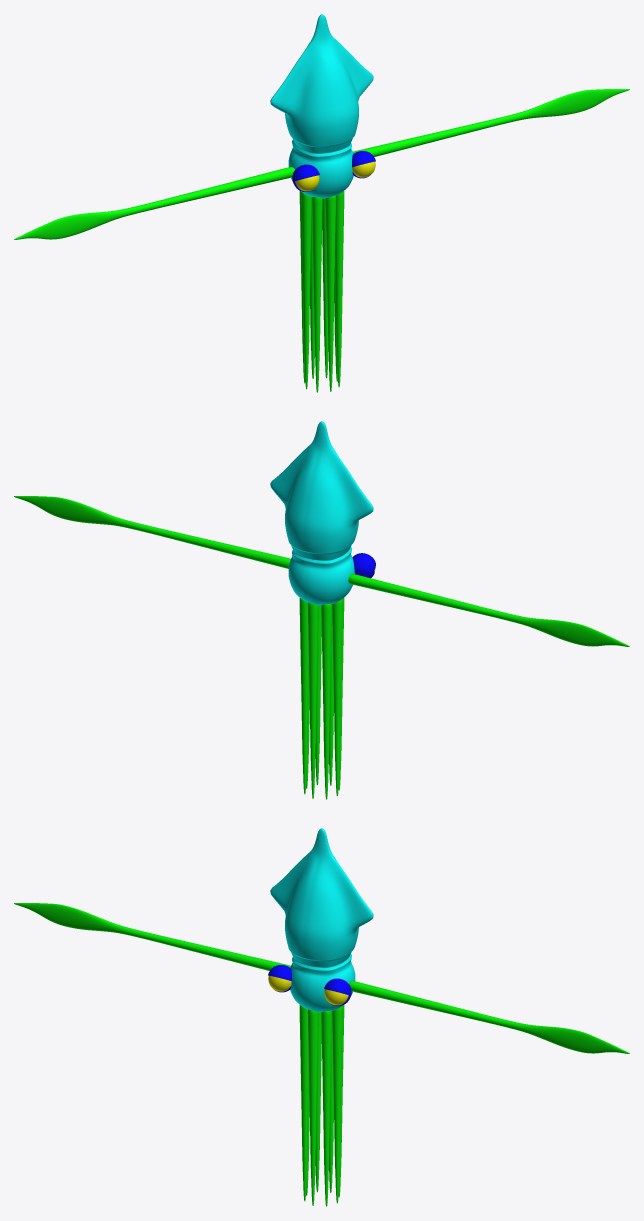
The model's file is Squid_Basic_Hi_SP.fbx.
3 renders of one model, top to bottom at view 1: azimuth 30°, elevation 25°; view 2: azimuth 150°, elevation 25°; view 3: azimuth 330°, elevation 25°, orthographic.
Visible parts, largest first — view 1: SquidMesh_Hi; view 2: SquidMesh_Hi; view 3: SquidMesh_Hi.
Boxes of the visible parts, <box> form: SquidMesh_Hi: <box>14,14,629,392</box>; SquidMesh_Hi: <box>14,421,629,799</box>; SquidMesh_Hi: <box>14,828,629,1206</box>.
Size of the model in its own units: 50.09 by 28.84 by 5.25.
